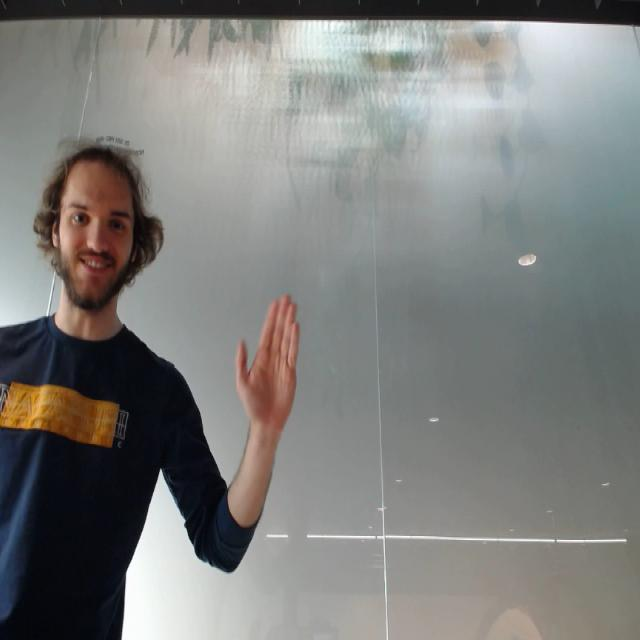backward: (232, 284, 306, 428)
